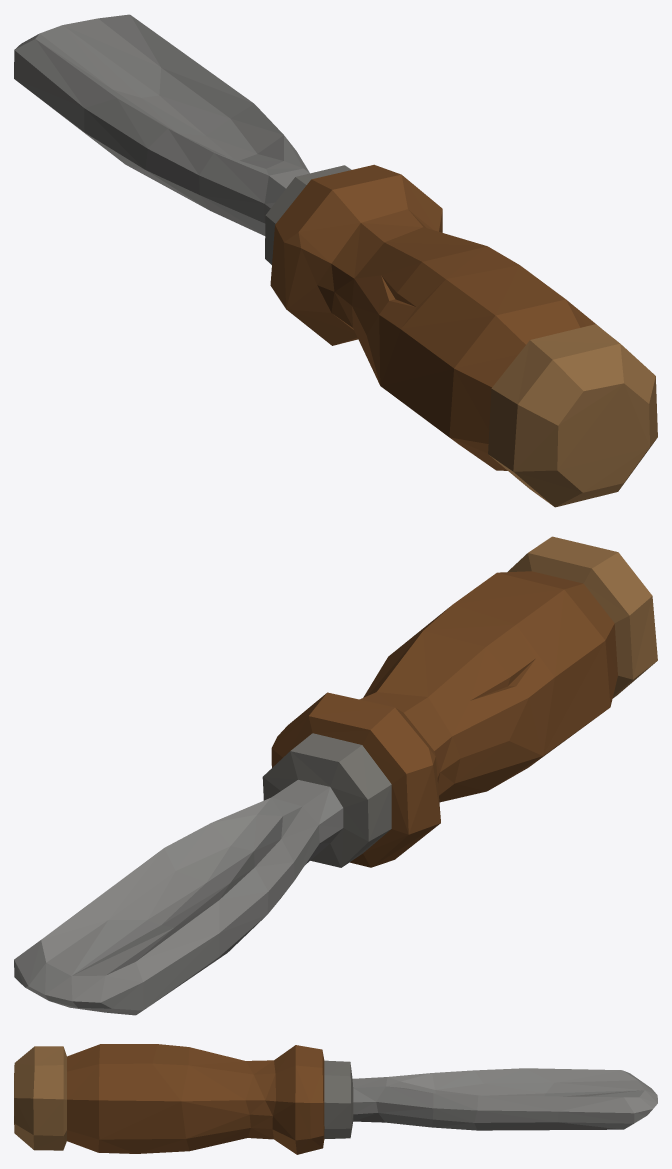
The model's file is WoodworkingChisel_4.fbx.
3 renders of one model, top to bottom at view 1: azimuth 30°, elevation 25°; view 2: azimuth 150°, elevation 25°; view 3: azimuth 270°, elevation 25°, orthographic. The views are drawn at different scales.
Parts seen in each view (by area): view 1: WoodworkingChisel_4; view 2: WoodworkingChisel_4; view 3: WoodworkingChisel_4.
Boxes of the visible parts, left/top/right/bottom form: WoodworkingChisel_4: left=14, top=14, right=657, bottom=507; WoodworkingChisel_4: left=14, top=536, right=657, bottom=1015; WoodworkingChisel_4: left=14, top=1044, right=657, bottom=1154.
Bounding box in the file's own units: 0.0439 × 0.2597 × 0.0405.
